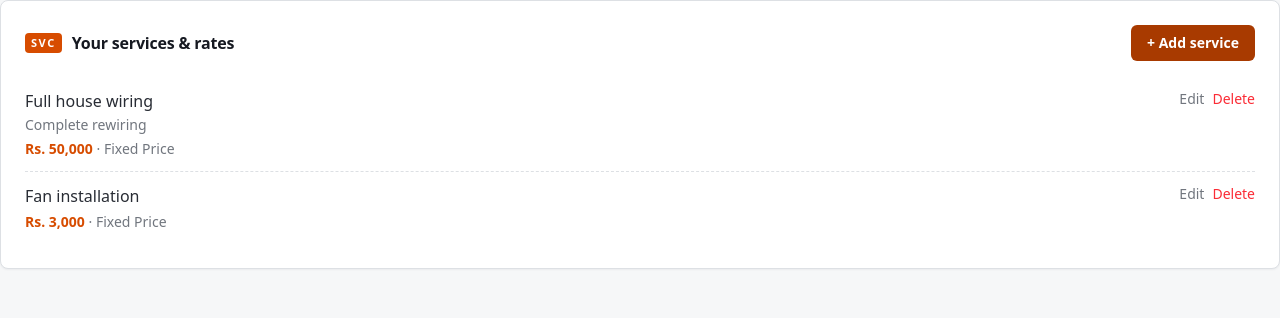
Scenario: ServicesManager › shows a generic error when the delete request throws
This screenshot has width=1280, height=318.
Click the button "Delete" in the row of "Full house wiring" at (1234, 99), box [1212, 89, 1255, 109]
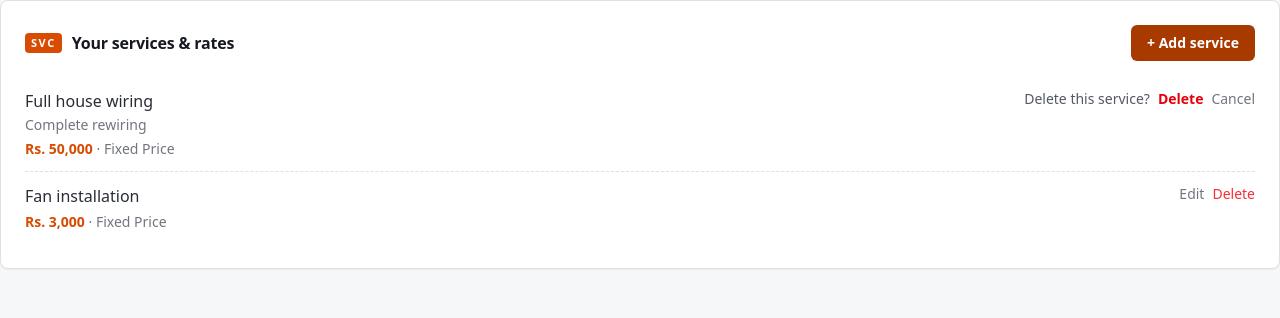
Click the button "Delete" next to "Delete this service?" at (1181, 99), box [1158, 89, 1203, 109]
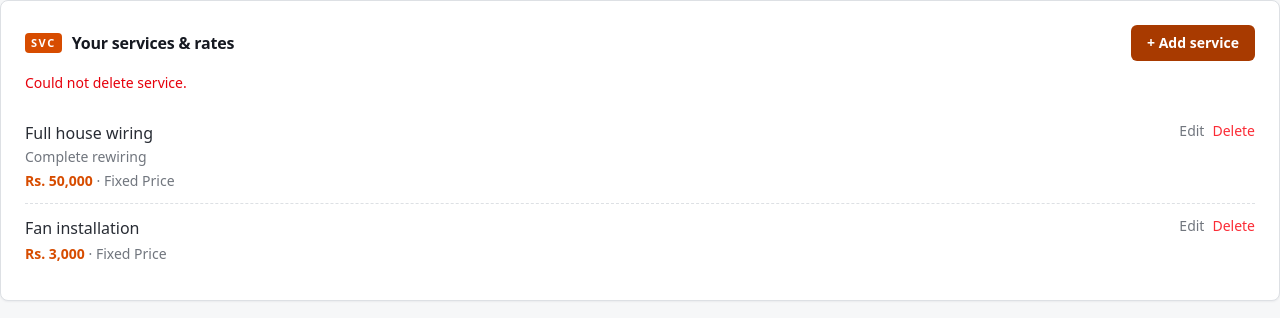
Expected: the text "Full house wiring" is shown, [25, 121, 174, 145]
Expected: the message reads "Could not delete service.", [25, 73, 187, 92]
